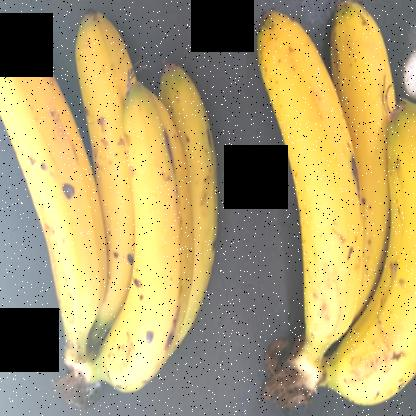ripe: (236, 6, 359, 368), (2, 20, 101, 357), (102, 87, 192, 397), (332, 101, 415, 409), (66, 24, 136, 301), (336, 0, 398, 259)
